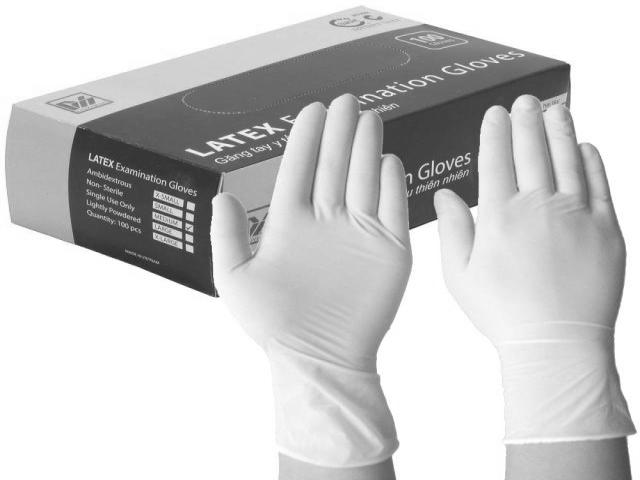gloved: (208, 92, 414, 363), (432, 92, 628, 348)
